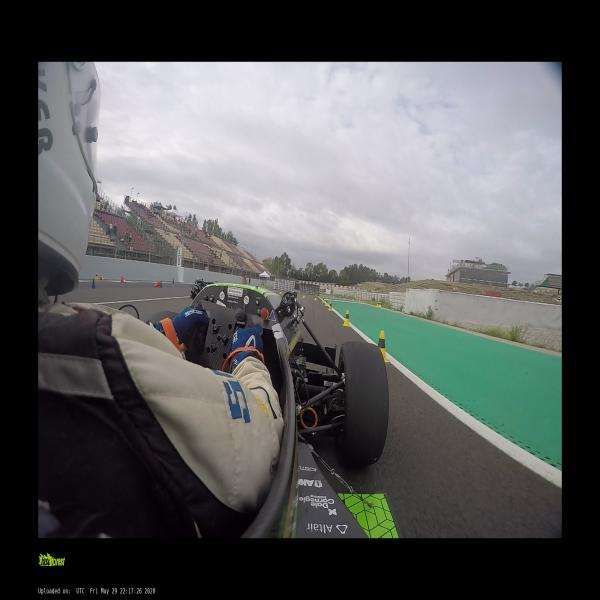blue_cone: (90, 278, 96, 288), (158, 280, 163, 288), (172, 278, 175, 284)
orange_cone: (153, 281, 160, 287), (121, 276, 126, 282), (100, 276, 105, 280)
yellow_cone: (378, 332, 389, 363), (342, 310, 350, 328), (94, 272, 99, 280), (328, 302, 332, 310), (324, 298, 328, 306), (379, 301, 382, 308), (314, 295, 317, 301), (302, 292, 305, 298), (322, 297, 324, 303), (279, 289, 281, 295), (378, 301, 380, 307), (376, 301, 378, 307), (370, 300, 372, 304)
